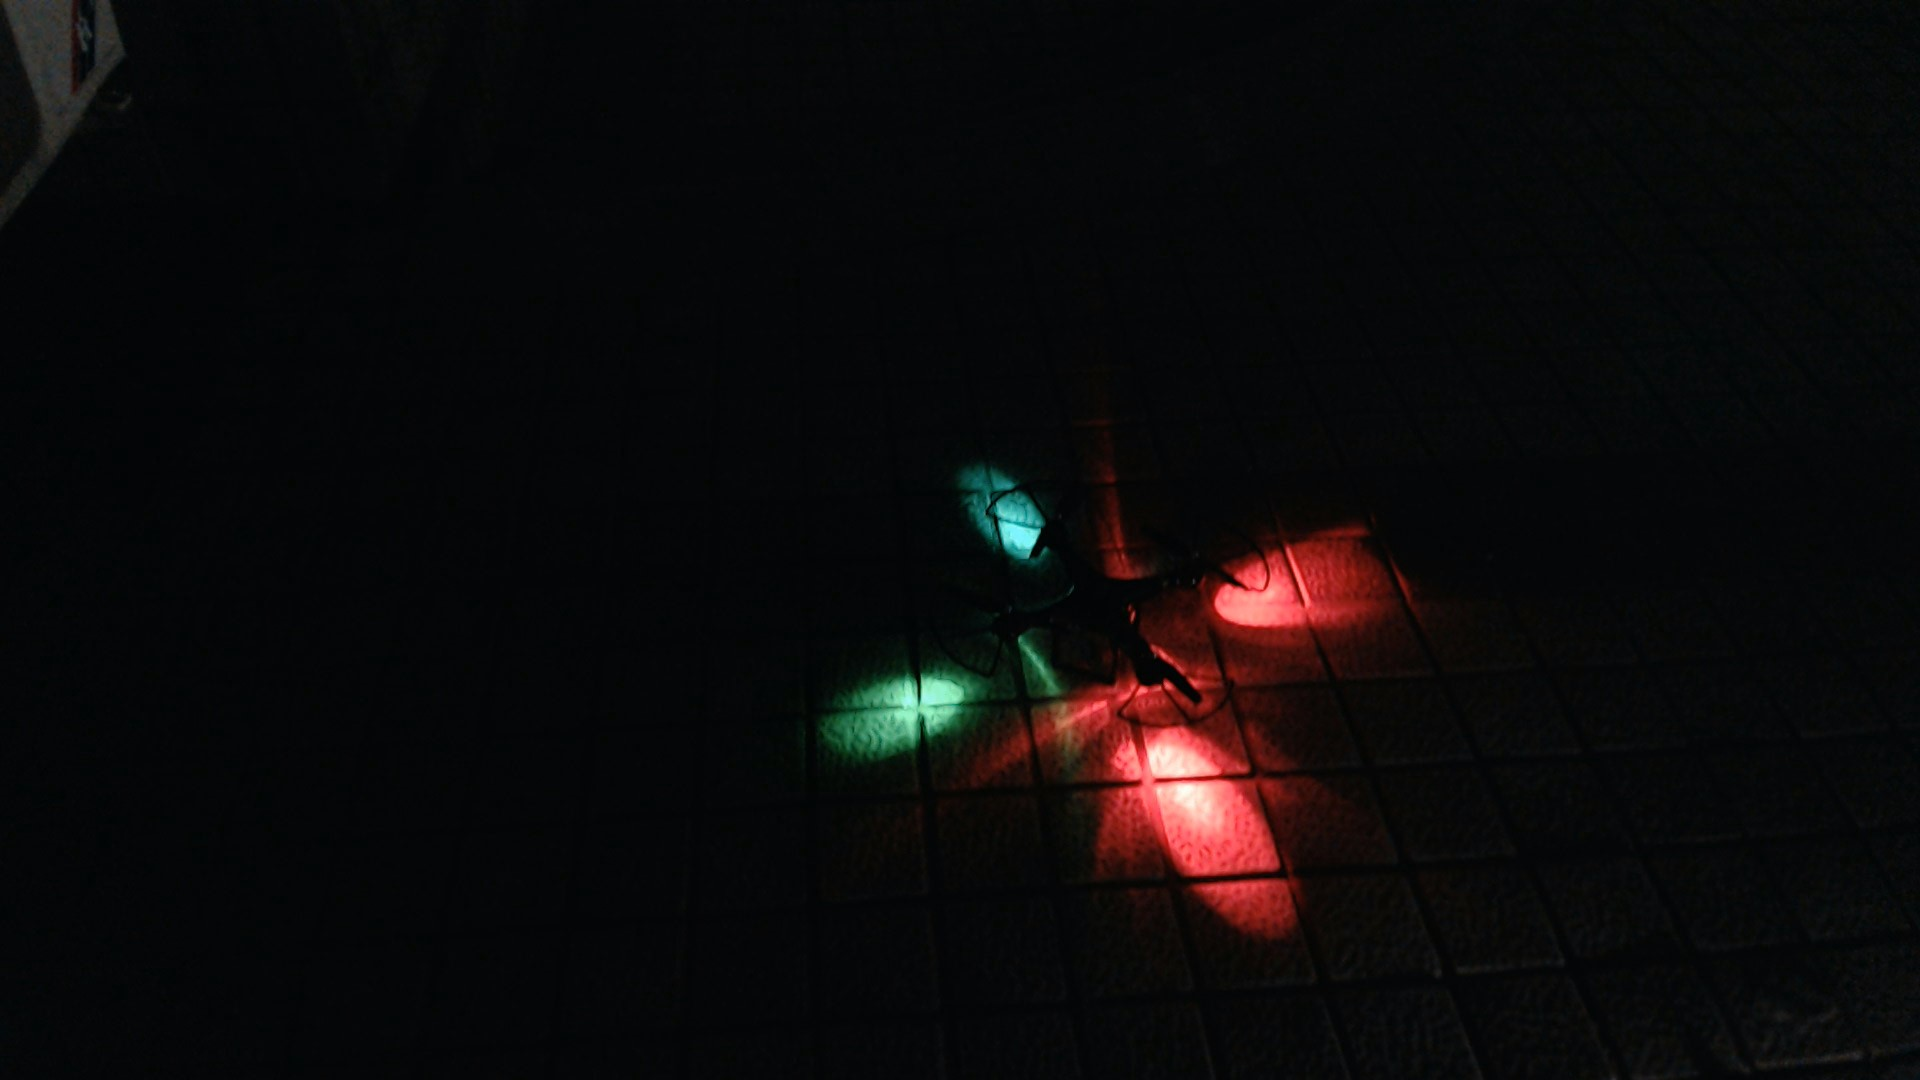test_drone: (926, 471, 1276, 733)
